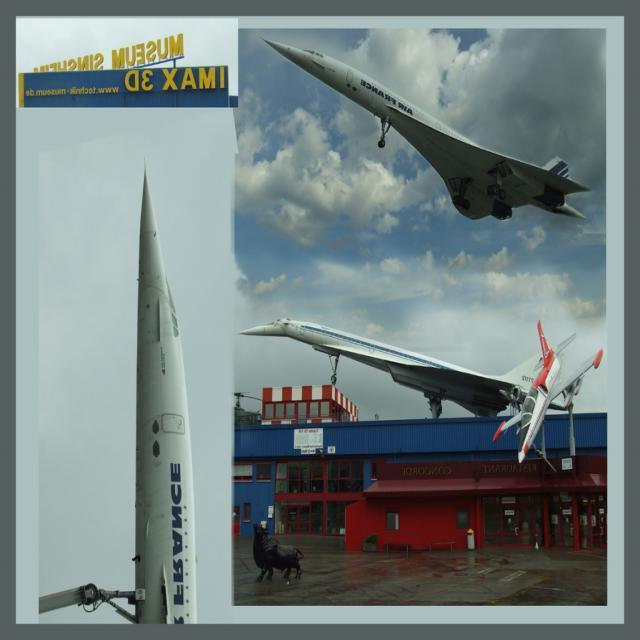Missile: (82, 153, 199, 632)
